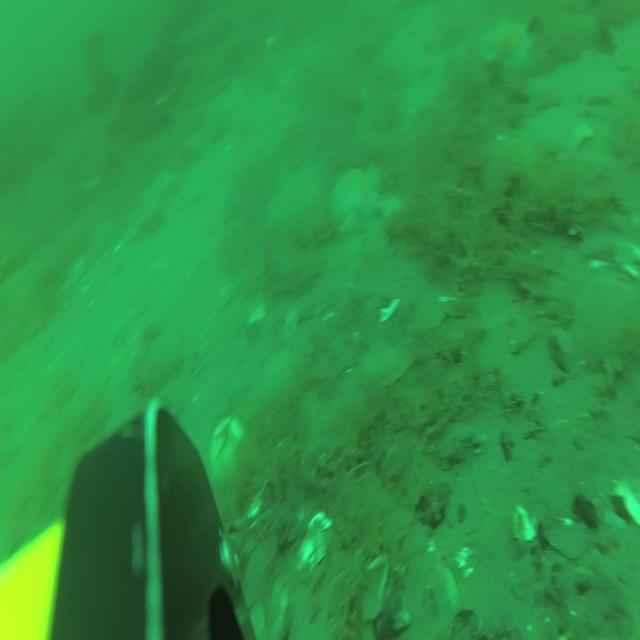scallop: (565, 279, 640, 360), (528, 110, 590, 151), (210, 420, 245, 479), (546, 515, 591, 559)
starfish: (326, 165, 392, 233), (480, 18, 538, 65)
